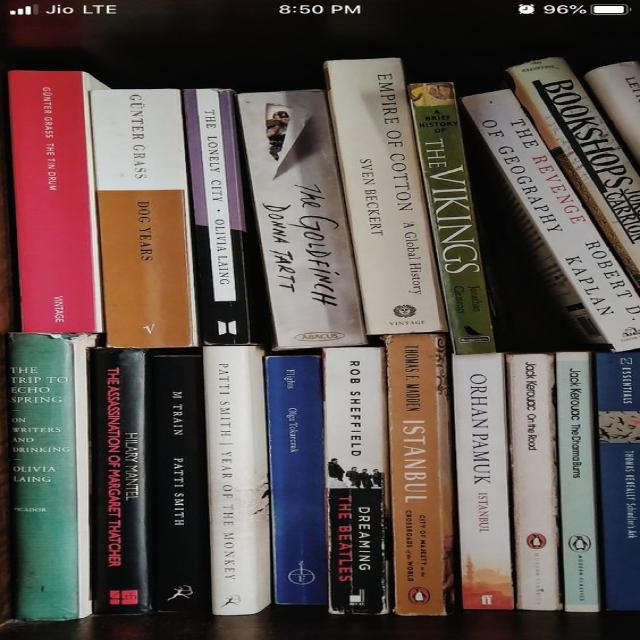book: (462, 90, 639, 351), (325, 59, 447, 334), (238, 90, 365, 350), (508, 57, 639, 281), (91, 91, 197, 347), (8, 71, 106, 332), (10, 334, 95, 621), (410, 83, 492, 354), (386, 334, 454, 615), (183, 89, 253, 345), (205, 346, 270, 615), (325, 347, 389, 614), (91, 347, 151, 613), (453, 354, 513, 609), (151, 351, 209, 611), (266, 354, 326, 604), (507, 355, 562, 610), (556, 353, 600, 612), (595, 353, 639, 610)
